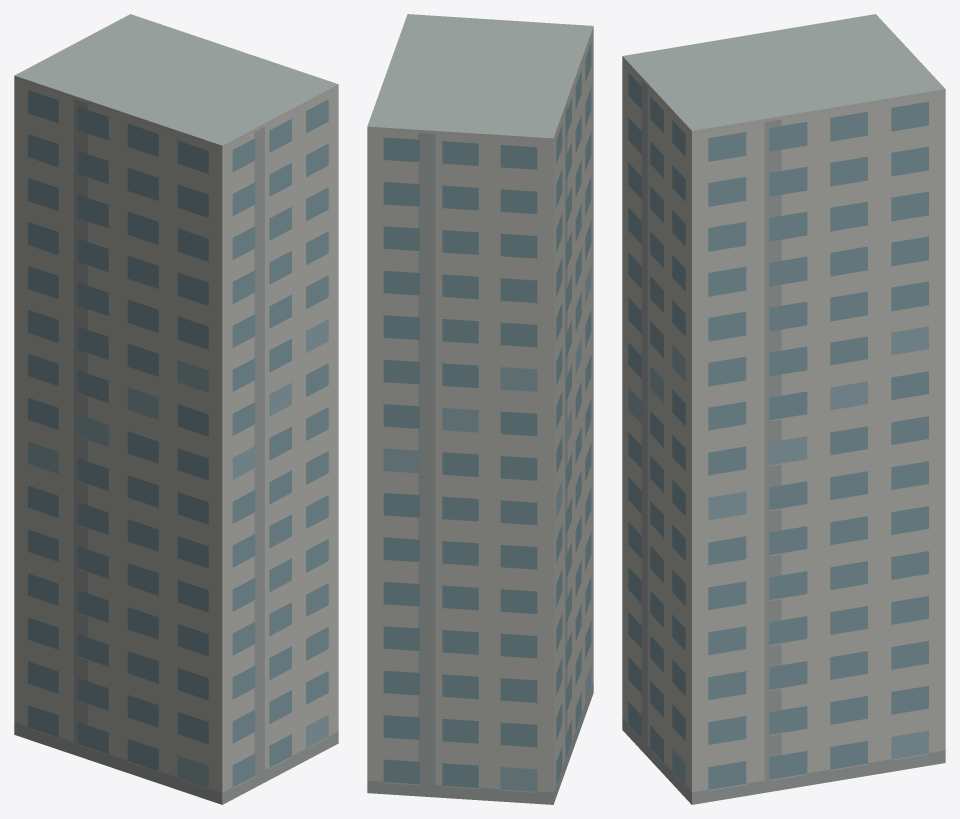
File: residential-277207ca-0df5-4310-a5c5-6f9469c25e50.glb
3 views of the same model, side by side, from view 1: azimuth 30°, elevation 25°; view 2: azimuth 150°, elevation 25°; view 3: azimuth 270°, elevation 25° (orthographic). The views are drawn at different scales.
Parts seen in each view (by area): view 1: residential-277207ca-0df5-4310-a5c5-6f9469c25e50.tmp; view 2: residential-277207ca-0df5-4310-a5c5-6f9469c25e50.tmp; view 3: residential-277207ca-0df5-4310-a5c5-6f9469c25e50.tmp.
Boxes of the visible parts, <box> form: residential-277207ca-0df5-4310-a5c5-6f9469c25e50.tmp: <box>14,14,338,804</box>; residential-277207ca-0df5-4310-a5c5-6f9469c25e50.tmp: <box>367,14,593,804</box>; residential-277207ca-0df5-4310-a5c5-6f9469c25e50.tmp: <box>622,14,945,804</box>.
Size of the model in its own units: 18.24 by 49 by 21.3.
